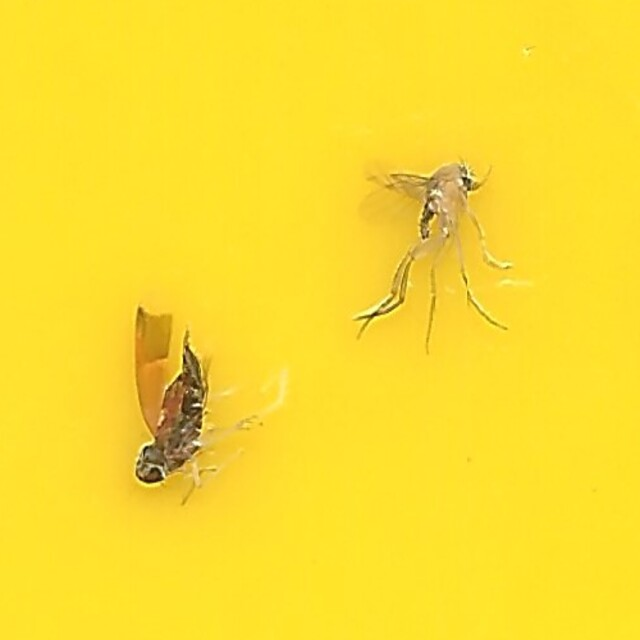Hemiptera: (128, 302, 212, 487)
Nematocera: (357, 153, 512, 351)
